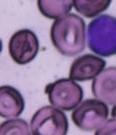L: (85, 13, 116, 56)
